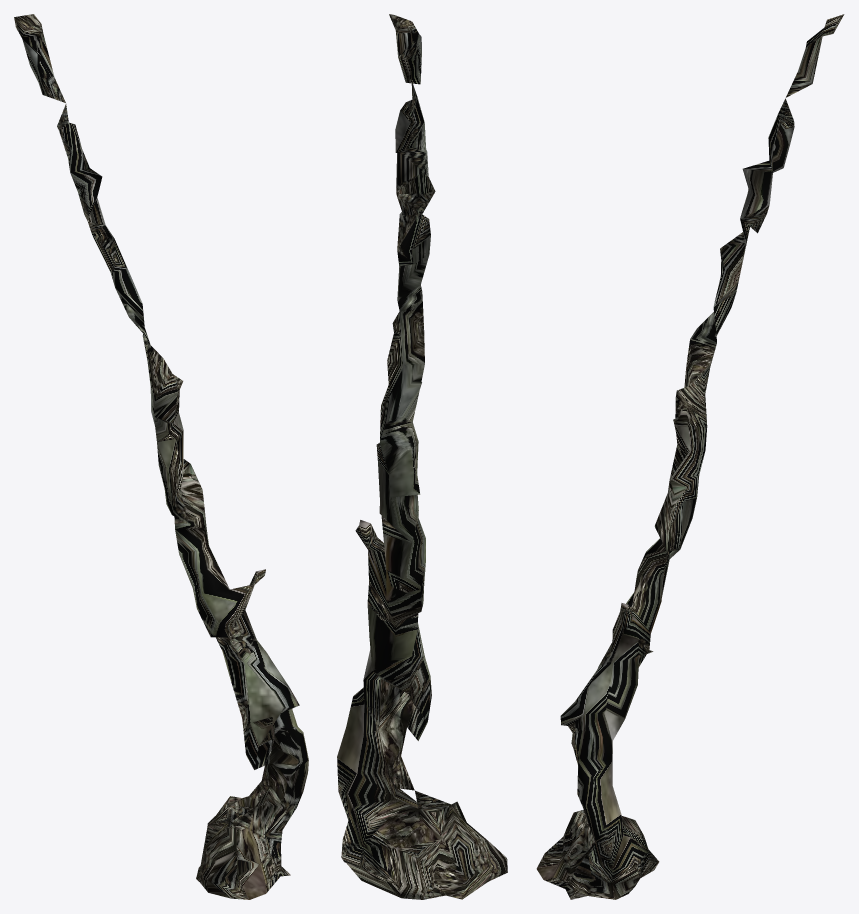
File: tree_half_dead_far.glb
3 views of the same model, side by side, from view 1: azimuth 30°, elevation 25°; view 2: azimuth 150°, elevation 25°; view 3: azimuth 270°, elevation 25° (orthographic). The views are drawn at different scales.
Visible parts, largest first — view 1: Very Small Tree; view 2: Very Small Tree; view 3: Very Small Tree.
Boxes of the visible parts, left/top/right/bottom form: Very Small Tree: left=14, top=14, right=308, bottom=899; Very Small Tree: left=337, top=14, right=507, bottom=899; Very Small Tree: left=536, top=14, right=844, bottom=899.
Size of the model in its own units: 1.79 by 7.94 by 2.72.
1 material, 1 textured.
